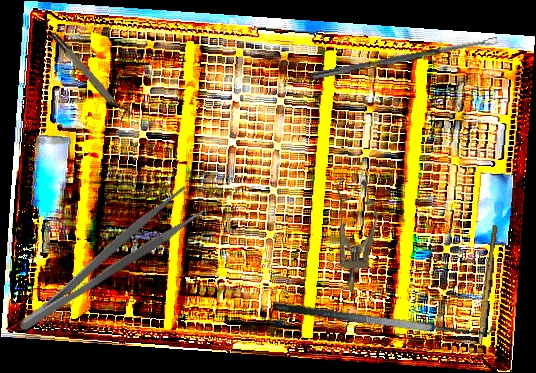Dressing Forceps: (4, 182, 208, 338)
Fixation Ring: (49, 27, 134, 125)
Scalpel Handle: (477, 224, 499, 346)
Spatula Surgical: (272, 282, 496, 347)
Speculum: (329, 177, 380, 294)
Surgical Spoon: (308, 36, 499, 82)
